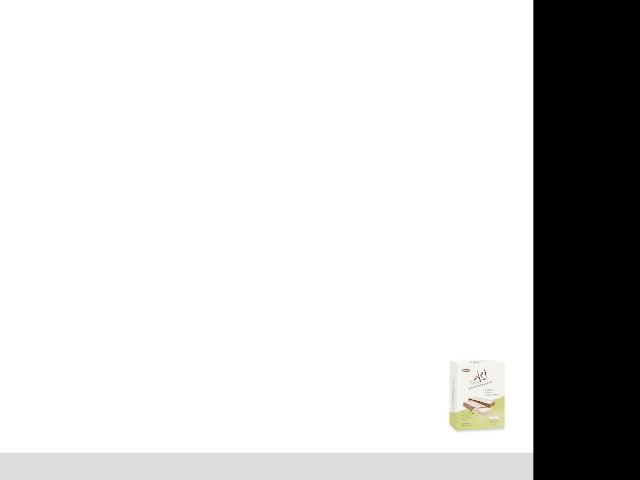chocolate: (445, 358, 511, 434)
